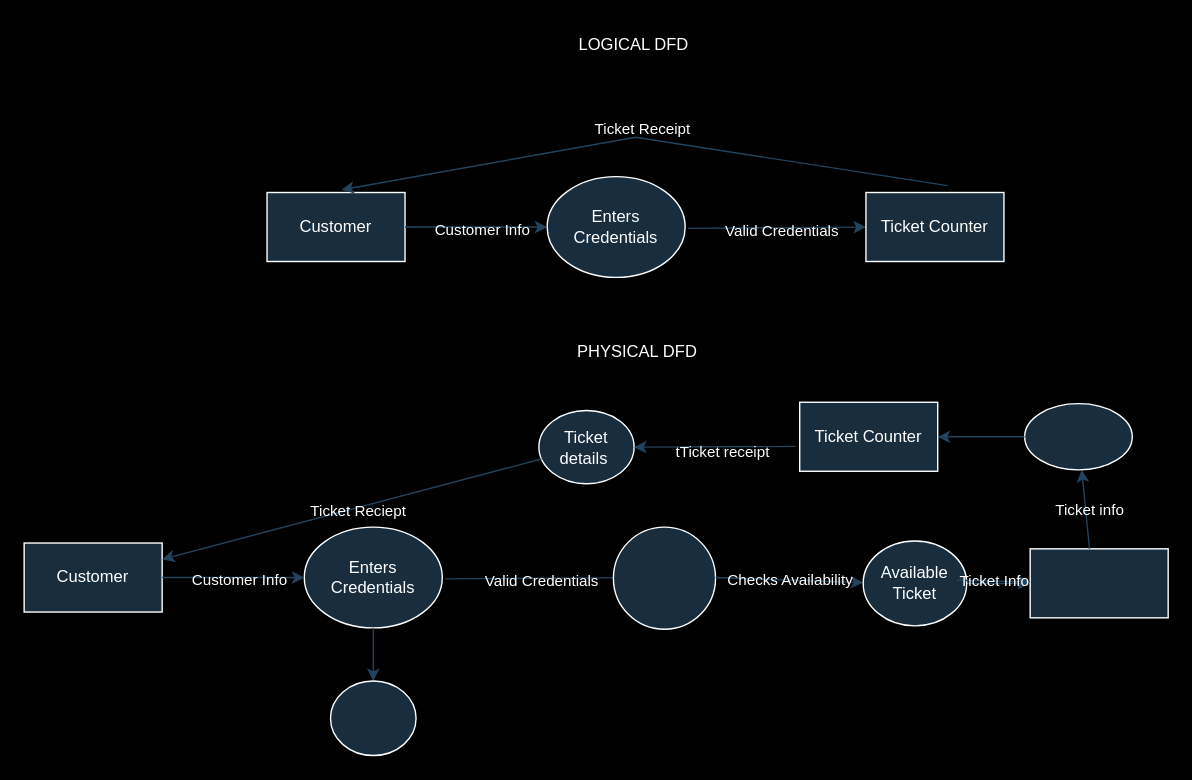
Image size: 1192x780. Some labels were removed from this diagram. The shapes that lost their labels are listed below. From the top down, each one's centre as x and y in pixels, then its label:
At pixel 1077 436: "Validated Ticket".
At pixel 664 577: "Ticket Class Requested".
At pixel 1098 582: "Admin".
At pixel 372 718: "Invalid credentials".
